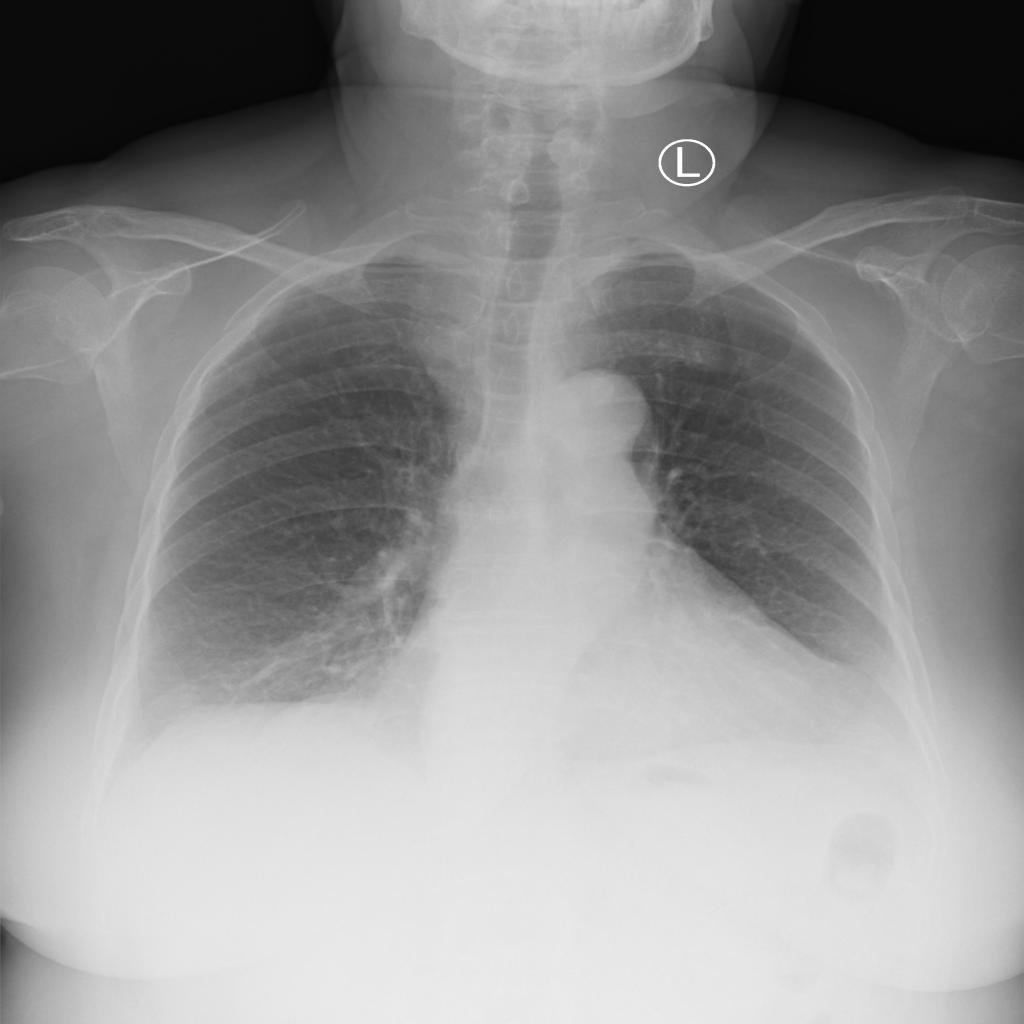Nodule: (403, 235, 620, 389)
